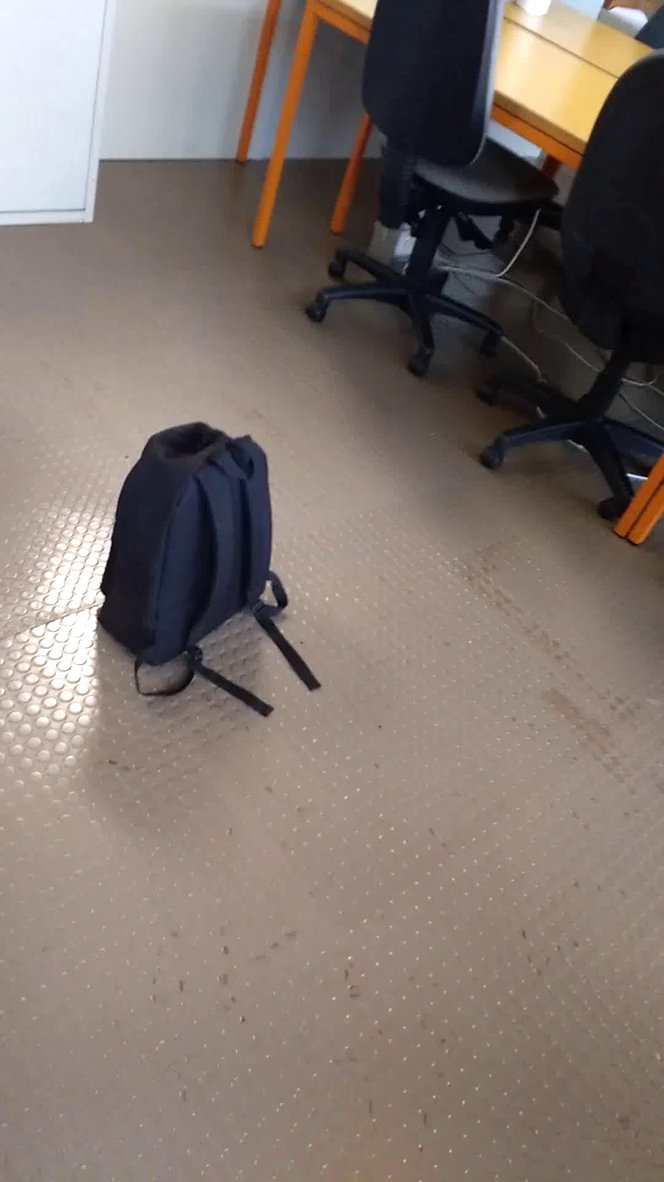bag: (91, 411, 336, 722)
chair: (315, 1, 562, 384)
